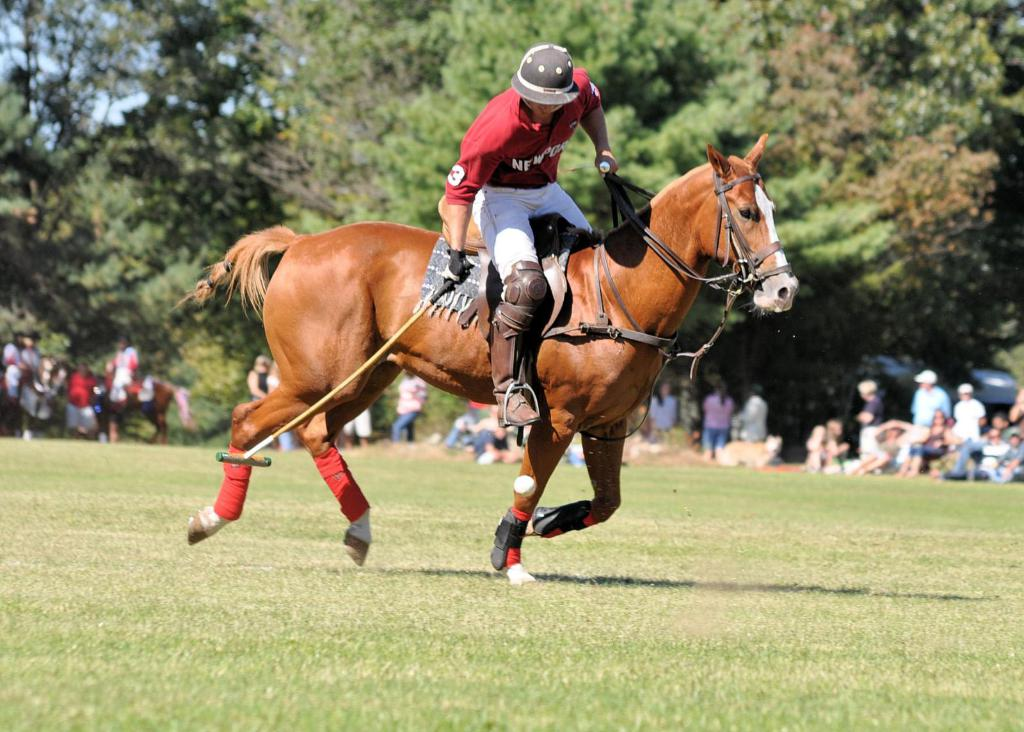horse: (167, 133, 800, 585)
